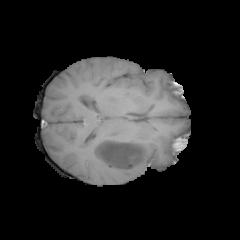glioma: (93, 72, 156, 171)
